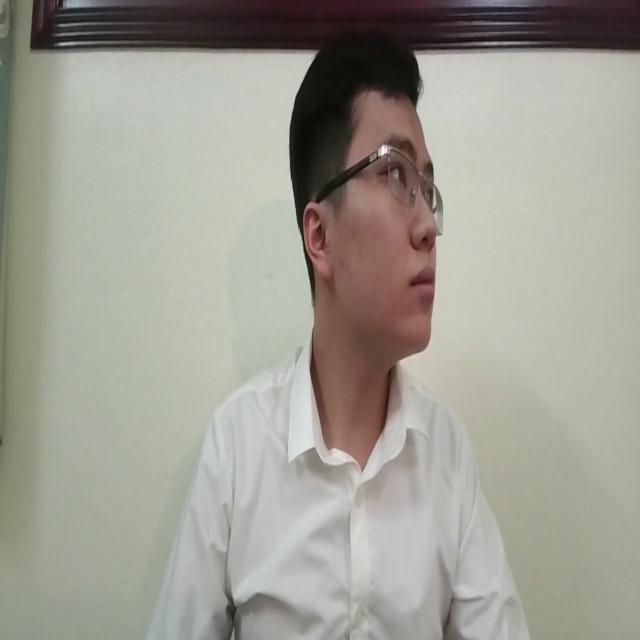student: (131, 15, 525, 640)
